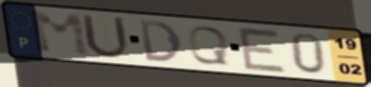0: (287, 32, 329, 75)
D: (137, 18, 185, 63)
E: (235, 25, 290, 75)
M: (28, 10, 95, 59)
Q: (186, 24, 232, 67)
U: (79, 11, 133, 61)
